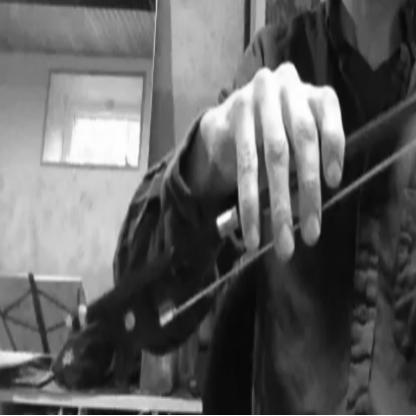good: (222, 52, 352, 268)
